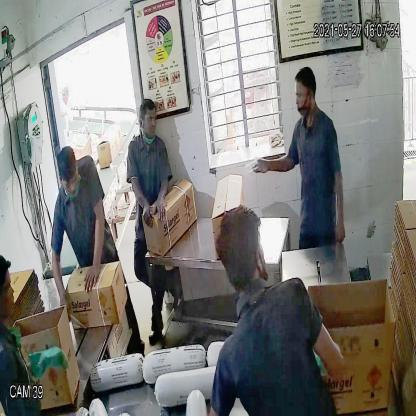no_goggles: (292, 86, 314, 107)
